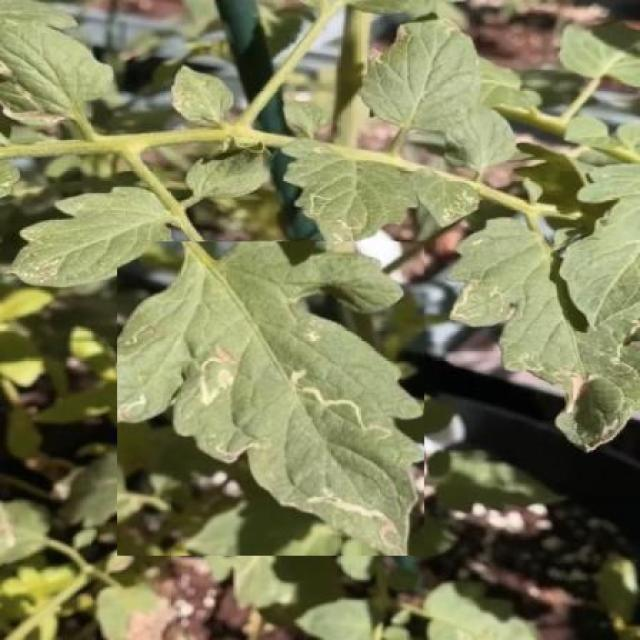Leaf Miner: (117, 241, 424, 556)
